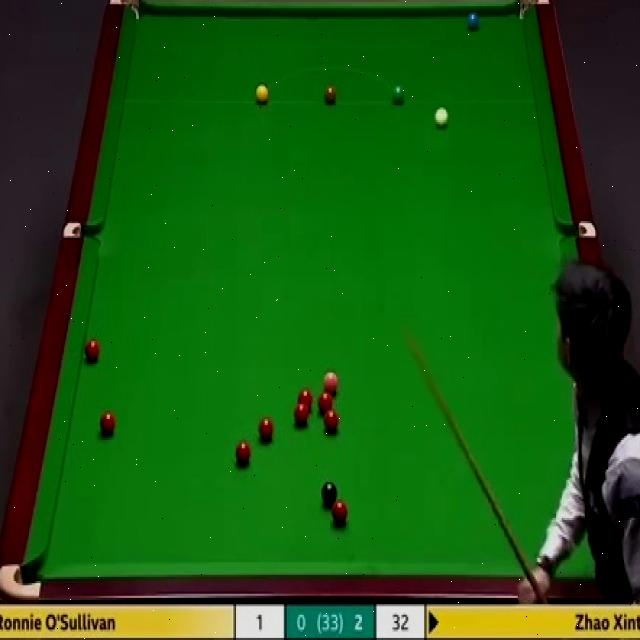black-ball: (321, 480, 336, 504)
blue-ball: (467, 11, 480, 34)
brown-ball: (324, 84, 338, 105)
green-ball: (391, 85, 406, 106)
pink-ball: (323, 370, 339, 398)
red-ball: (234, 439, 252, 467), (83, 338, 101, 364), (317, 388, 334, 415), (324, 408, 339, 437), (258, 416, 274, 442), (331, 500, 348, 524), (298, 388, 313, 414), (101, 411, 114, 435), (295, 403, 308, 424)
white-ball: (434, 104, 448, 130)
yellow-ball: (254, 84, 270, 105)
